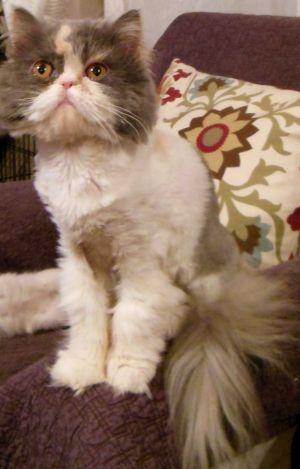persian: (1, 1, 167, 157)
